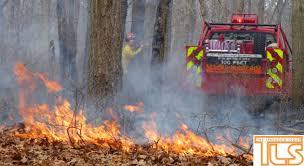fire: (11, 58, 241, 157)
